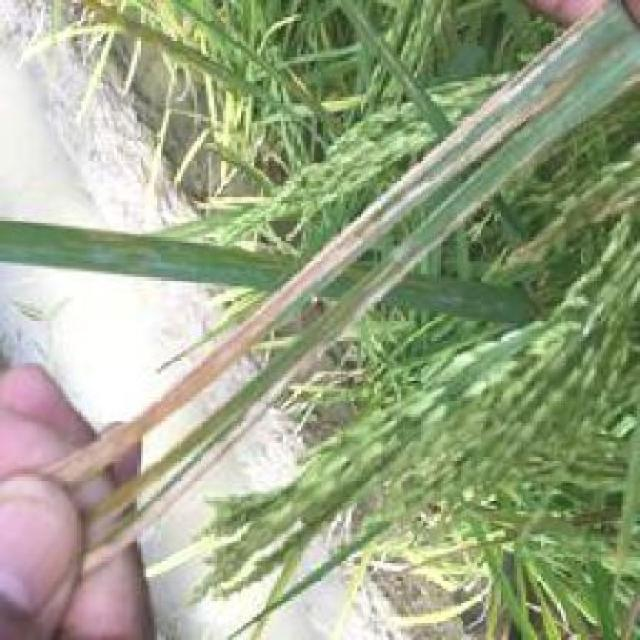Brown_Spot: (55, 223, 357, 452)
